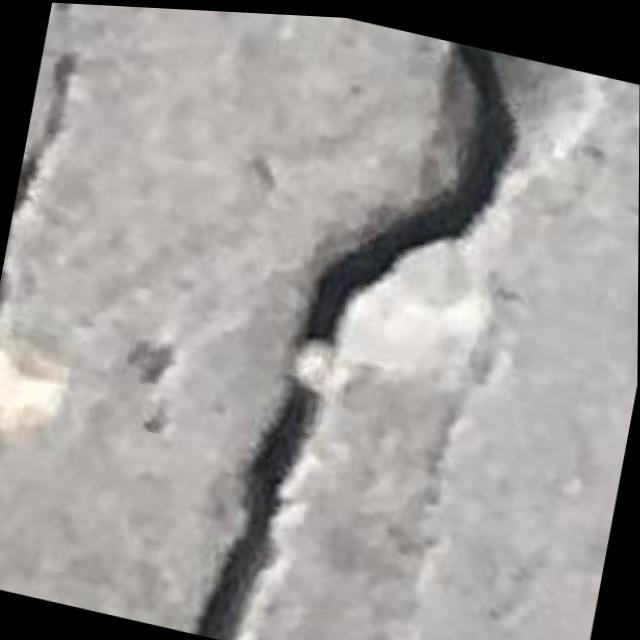Crack: (170, 7, 549, 640), (0, 0, 104, 347)
